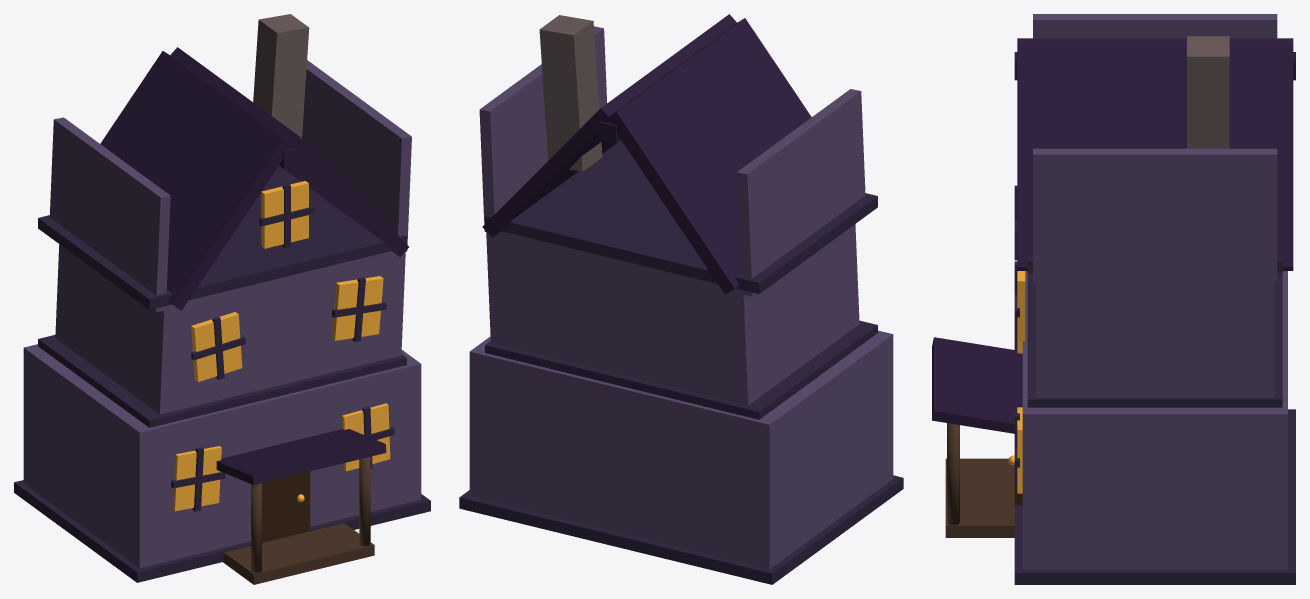
File: P_HauntedHouse.fbx
The picture shows the model from 3 angles, left to right: view 1: azimuth 30°, elevation 25°; view 2: azimuth 150°, elevation 25°; view 3: azimuth 270°, elevation 25°; orthographic projection. The views are drawn at different scales.
Visible parts, largest first — view 1: P_HauntedHouse__Wall, P_HauntedHouse__Roof, P_HauntedHouse__Trim, P_HauntedHouse__Window, P_HauntedHouse__Porch, P_HauntedHouse__Chimney, P_HauntedHouse__Door; view 2: P_HauntedHouse__Wall, P_HauntedHouse__Roof, P_HauntedHouse__Trim, P_HauntedHouse__Chimney; view 3: P_HauntedHouse__Wall, P_HauntedHouse__Roof, P_HauntedHouse__Trim, P_HauntedHouse__Porch, P_HauntedHouse__Chimney, P_HauntedHouse__Window.
Boxes of the visible parts, left/top/right/bottom form: P_HauntedHouse__Wall: left=23, top=60, right=421, bottom=568; P_HauntedHouse__Roof: left=100, top=47, right=408, bottom=484; P_HauntedHouse__Trim: left=14, top=166, right=430, bottom=582; P_HauntedHouse__Window: left=172, top=181, right=390, bottom=511; P_HauntedHouse__Porch: left=223, top=456, right=374, bottom=584; P_HauntedHouse__Chimney: left=253, top=14, right=309, bottom=138; P_HauntedHouse__Door: left=262, top=471, right=310, bottom=542; P_HauntedHouse__Wall: left=469, top=26, right=893, bottom=569; P_HauntedHouse__Roof: left=482, top=14, right=811, bottom=294; P_HauntedHouse__Trim: left=459, top=140, right=903, bottom=584; P_HauntedHouse__Chimney: left=539, top=15, right=602, bottom=171; P_HauntedHouse__Wall: left=1022, top=14, right=1287, bottom=569; P_HauntedHouse__Roof: left=932, top=38, right=1295, bottom=433; P_HauntedHouse__Trim: left=1014, top=185, right=1295, bottom=584; P_HauntedHouse__Porch: left=945, top=423, right=1014, bottom=537; P_HauntedHouse__Chimney: left=1187, top=36, right=1229, bottom=148; P_HauntedHouse__Window: left=1008, top=271, right=1025, bottom=493.
Size of the model in its own units: 14.6 by 21.05 by 13.71.
